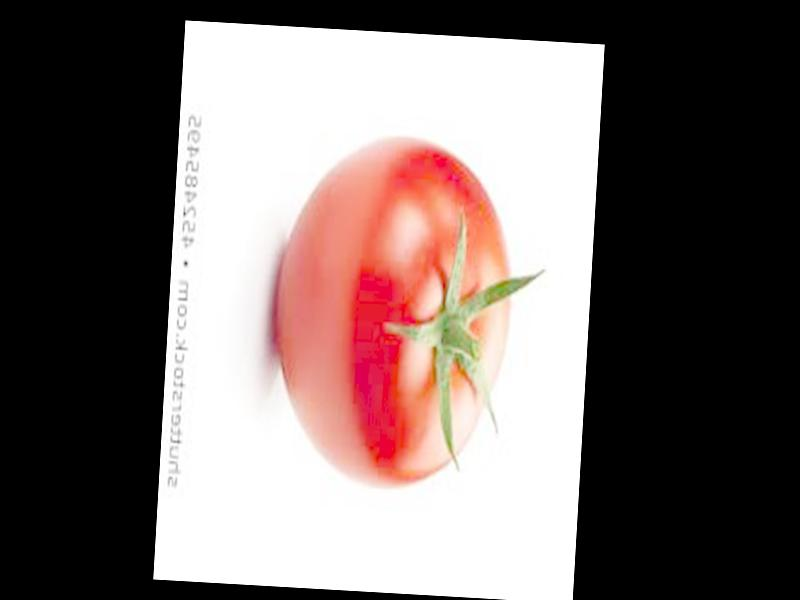Tomato: (265, 134, 518, 489)
